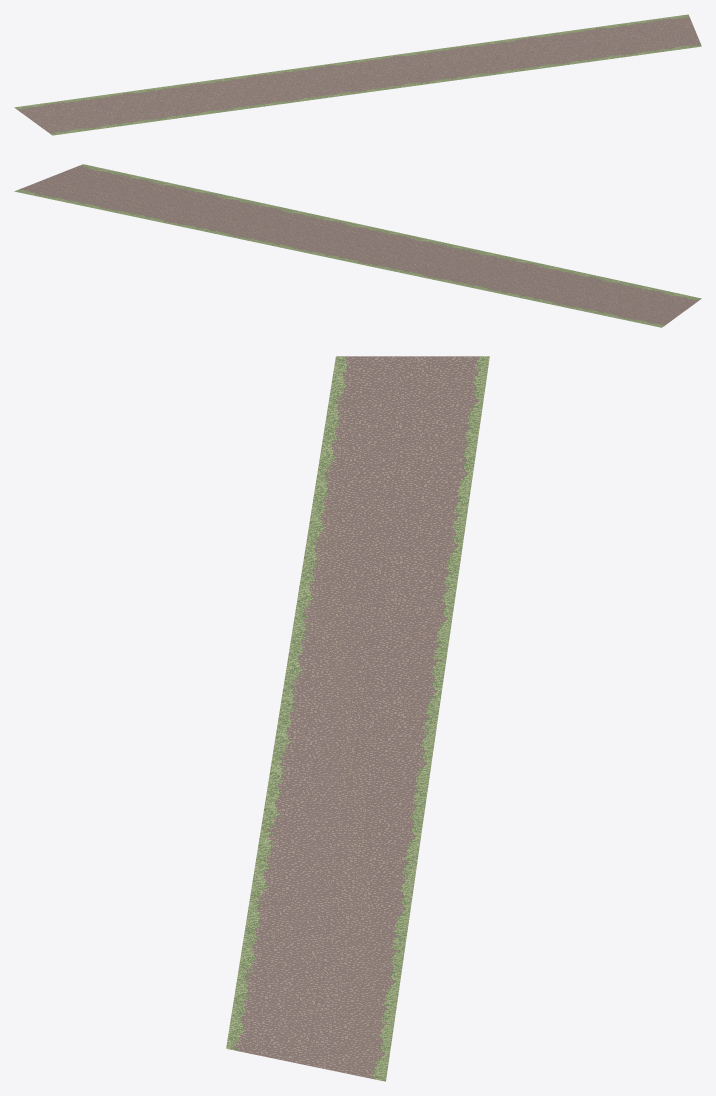
File: kd_stage_135ebf_0_23.glb
3 views of the same model, one above another, from view 1: azimuth 30°, elevation 25°; view 2: azimuth 150°, elevation 25°; view 3: azimuth 270°, elevation 25° (orthographic). The views are drawn at different scales.
Parts seen in each view (by area): view 1: kd_stage_135ebf_0_23; view 2: kd_stage_135ebf_0_23; view 3: kd_stage_135ebf_0_23.
Part boxes in pixels (x1,y1,x2,y2): kd_stage_135ebf_0_23: (14,14,701,135); kd_stage_135ebf_0_23: (14,164,701,327); kd_stage_135ebf_0_23: (226,356,489,1081).
Bounding box in the file's own units: 2.75 × 0.1871 × 0.4839.
1 material, 1 textured.
